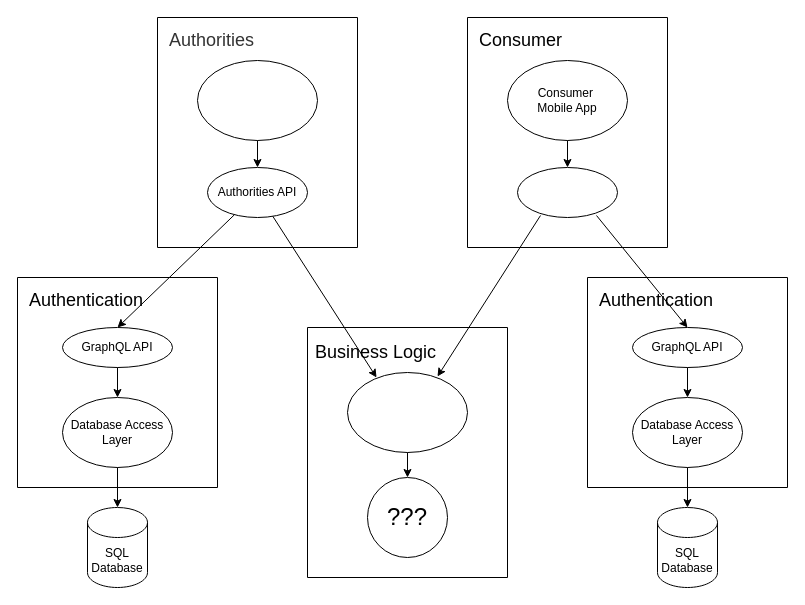
The diagram is 805 pixels wide and 605 high, and some of its shapes have lost their labels. Each missing label, with the centre of its shape:
Authorities Web App: (257,100)
Business Logic Library: (407,412)
Consumer API: (567,192)
